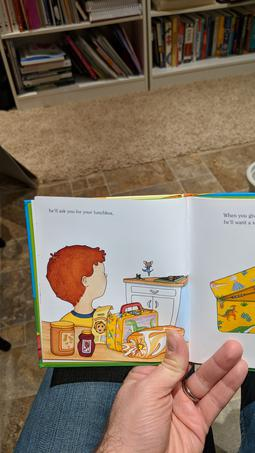text block: (43, 198, 116, 227), (217, 206, 255, 233)
